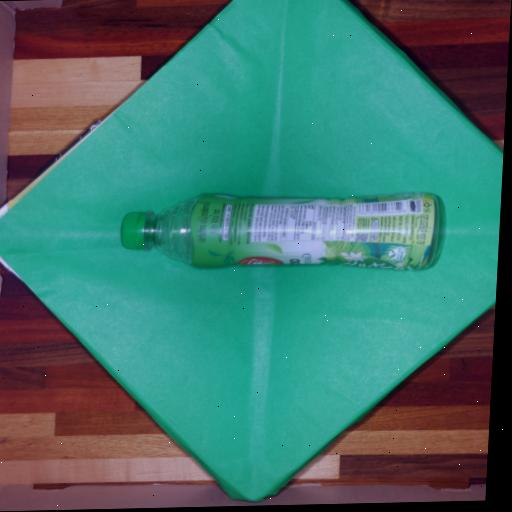bottle: (118, 192, 440, 277)
